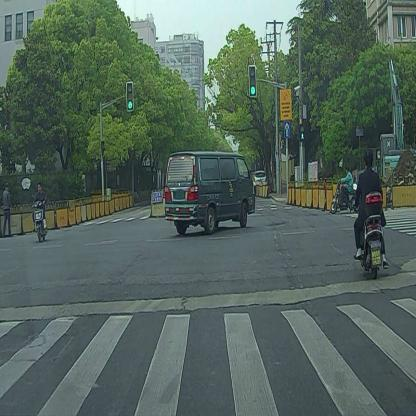Green Light: (126, 80, 134, 112), (249, 64, 257, 96)
